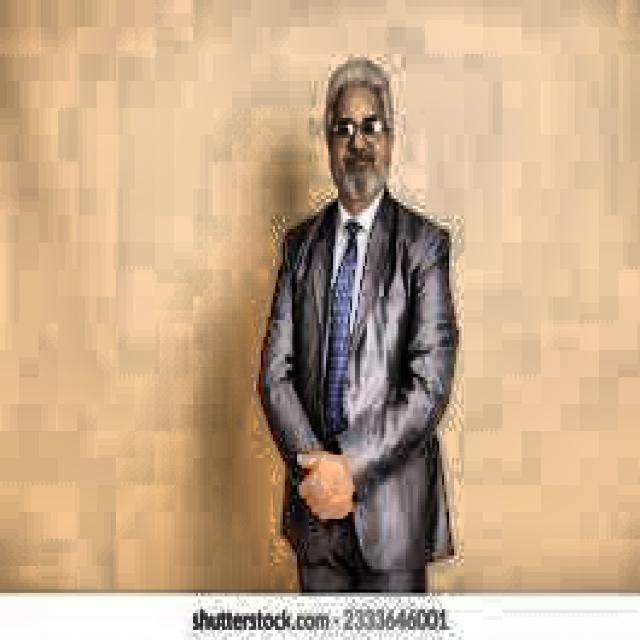Human: (243, 66, 476, 600)
